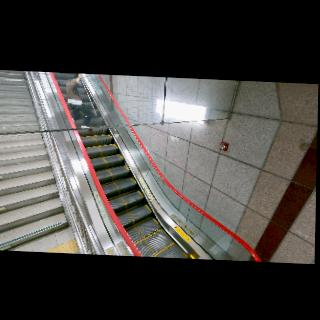normal: (63, 73, 94, 132)
